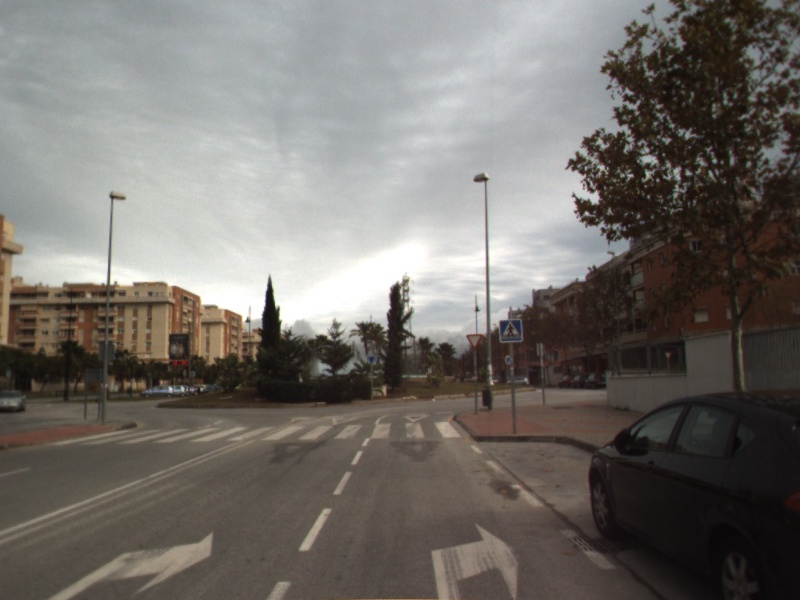RIGHT: (42, 527, 216, 600), (428, 518, 522, 600)
